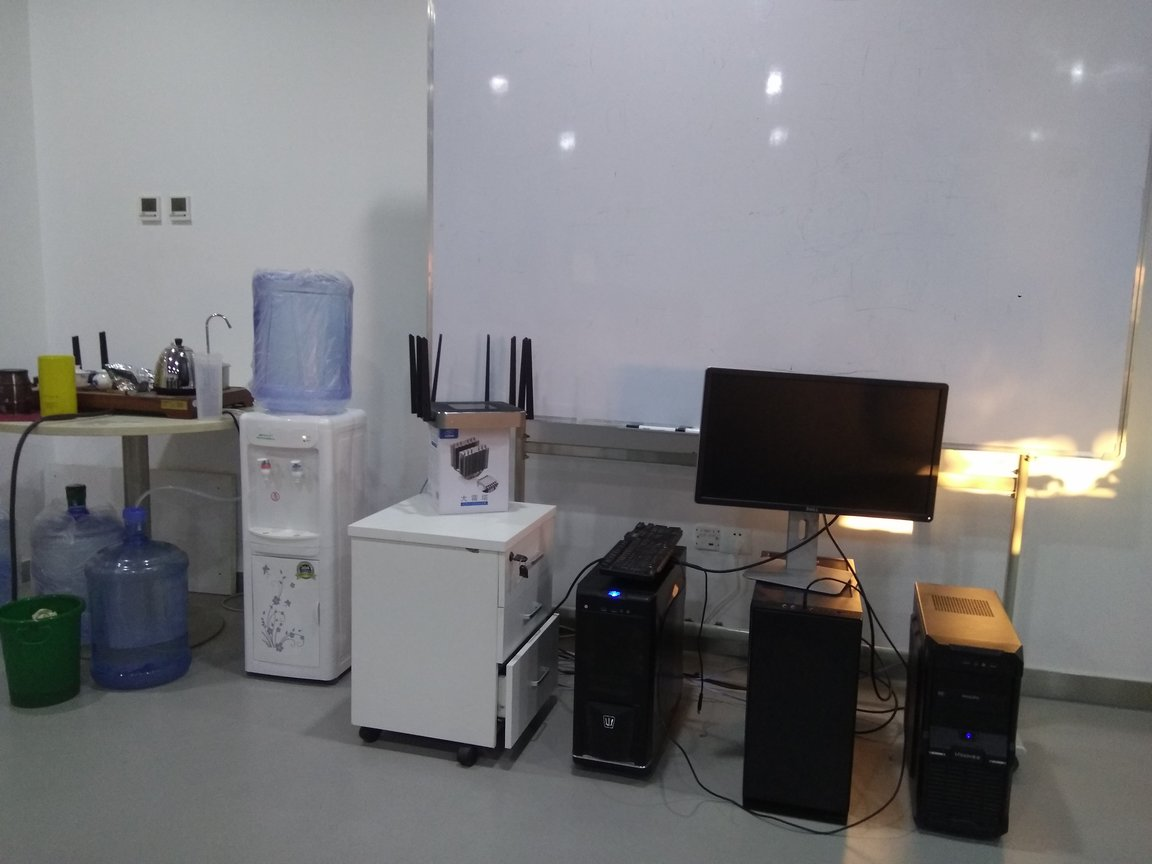computer: (737, 545, 863, 832), (904, 574, 1027, 848), (572, 541, 684, 788)
drawer chest: (343, 492, 561, 770)
monitor: (696, 365, 954, 590)
scuttlebutt: (84, 513, 194, 692), (246, 270, 360, 421), (30, 487, 124, 651)
water dispenser: (235, 403, 363, 686)
